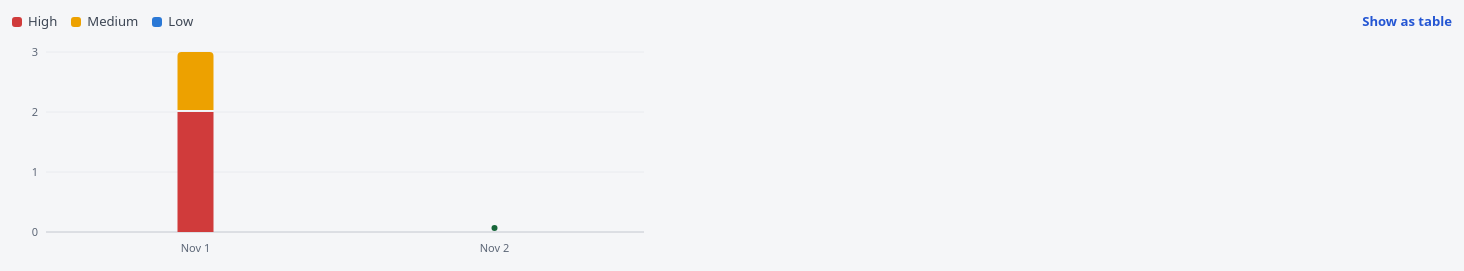
Test: TrendChart › labels each column for screen readers and offers a table view
Expected: the link "run 1: 2 high, 1 medium, 0 low" is shown, x1=181 y1=240 x2=210 y2=255
Click the button "Show as table".
click(1407, 22)  # box x1=1362 y1=14 x2=1452 y2=30
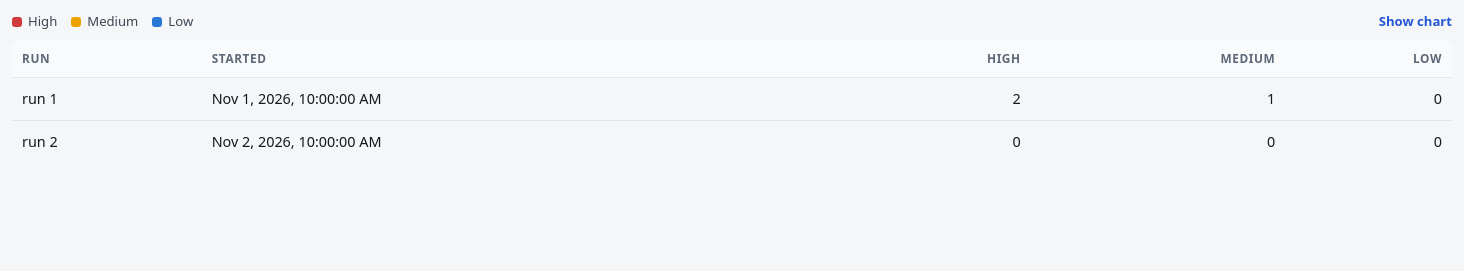
Result: the table is shown at x1=12 y1=40 x2=1452 y2=163
Result: the number of rows is 3 at x1=12 y1=40 x2=1452 y2=78; x1=12 y1=78 x2=1452 y2=121; x1=12 y1=121 x2=1452 y2=163
